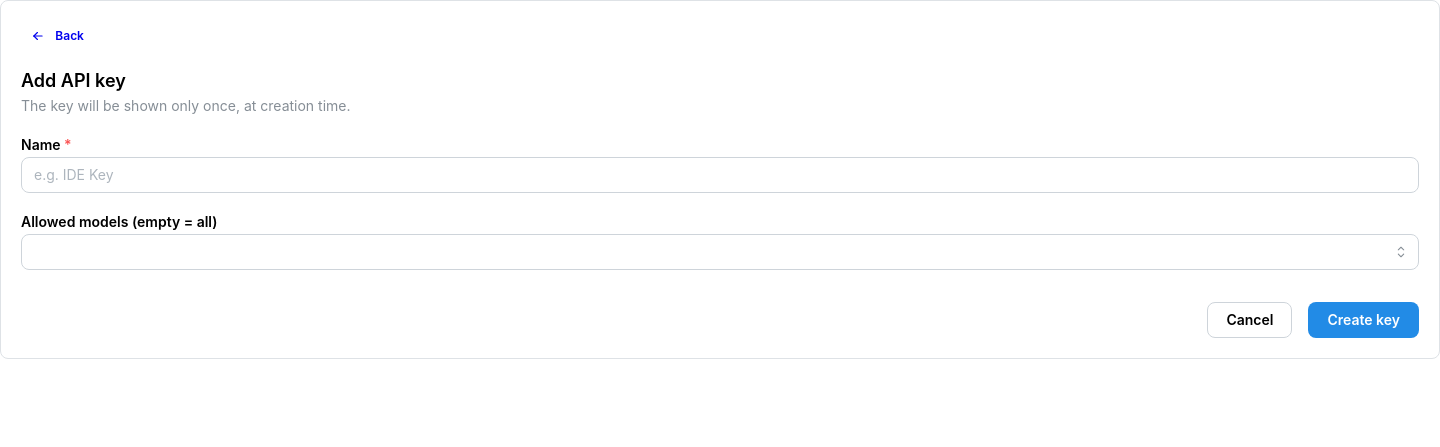
Test: AddKeyPage › shows the server error when the creation fails
Type "IDE key" into the field labelled "Name *" at [720, 175], box [21, 157, 1419, 193]
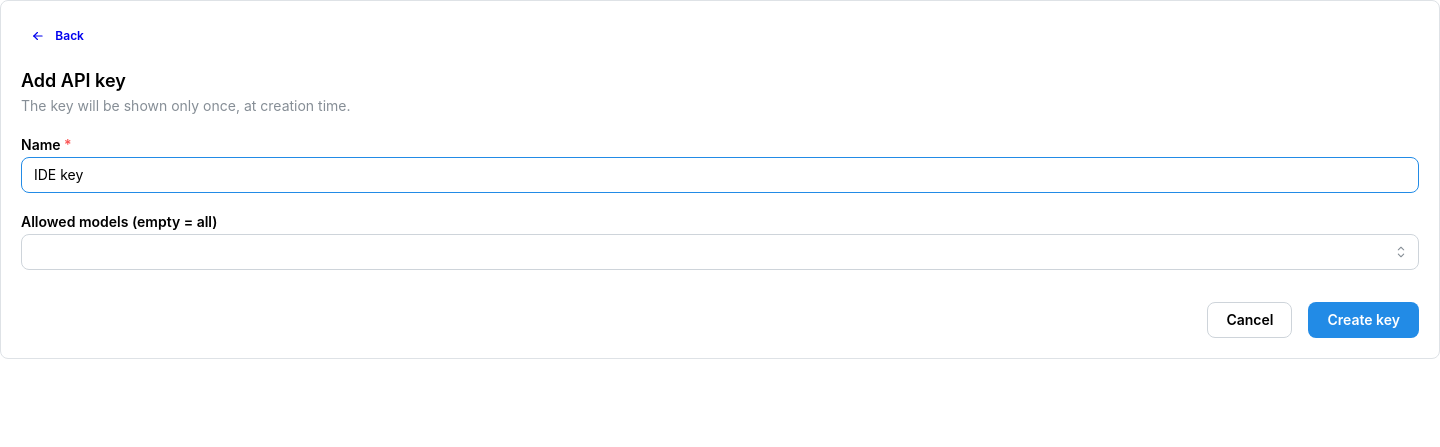
Click the button "Create key" at [1364, 320], box [1308, 302, 1419, 338]
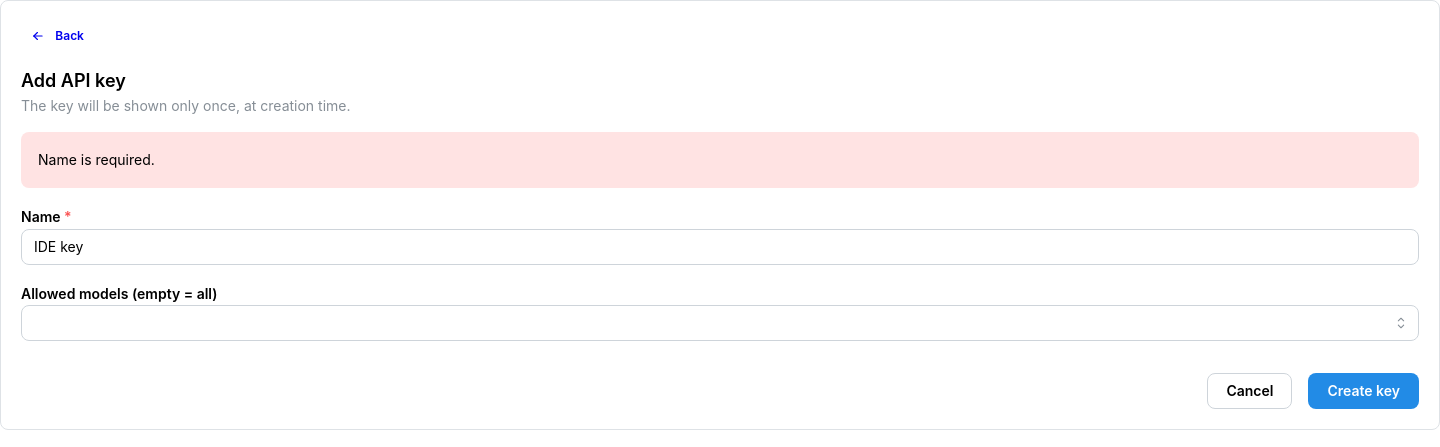
expect the text "Name is required." is shown: met, box [38, 151, 155, 168]
